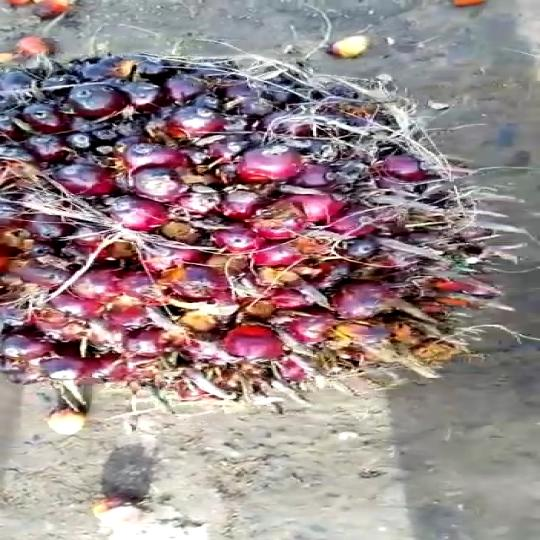masak: (0, 32, 540, 407)
